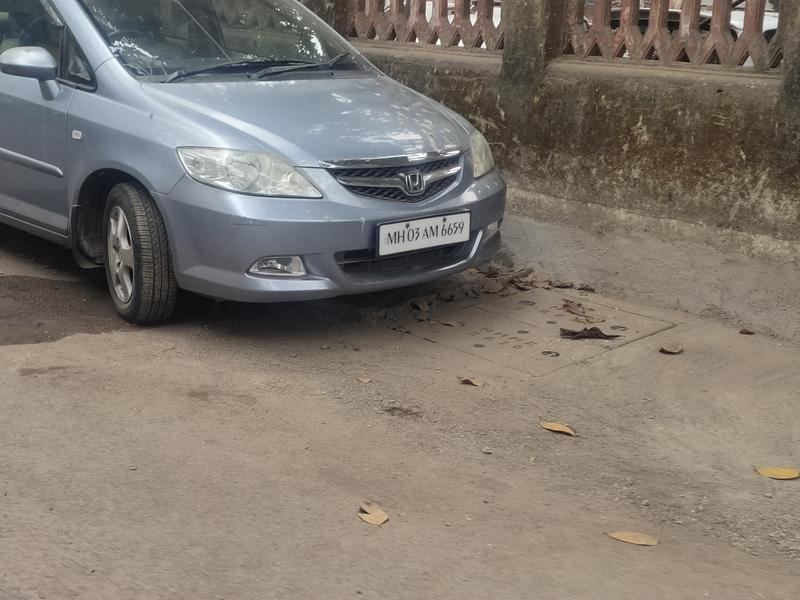license_plate: (367, 209, 479, 262)
